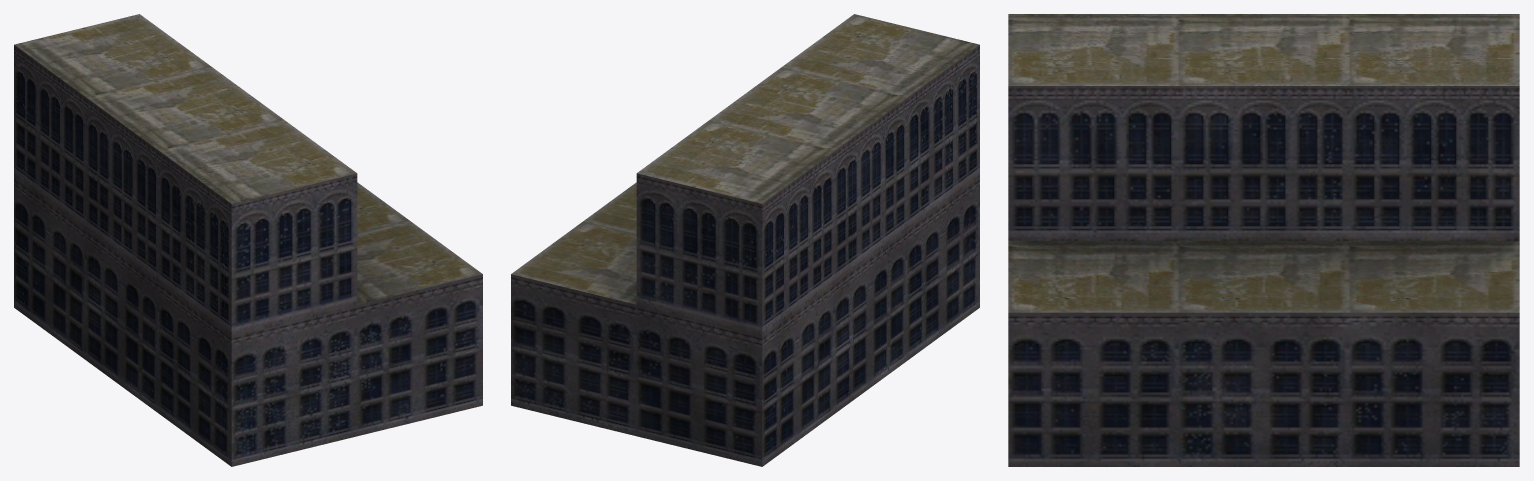
File: Building5.gltf
The picture shows the model from 3 angles, left to right: view 1: azimuth 30°, elevation 25°; view 2: azimuth 150°, elevation 25°; view 3: azimuth 270°, elevation 25°; orthographic projection. The views are drawn at different scales.
Visible parts, largest first — view 1: Box17; view 2: Box17; view 3: Box17.
Part boxes in pixels (x1=…): Box17: x1=14, y1=14, x2=482, y2=466; Box17: x1=511, y1=14, x2=979, y2=466; Box17: x1=1008, y1=14, x2=1519, y2=466.
Size of the model in its own units: 20 by 20 by 30.
Materials: 1 (1 with a texture image).
